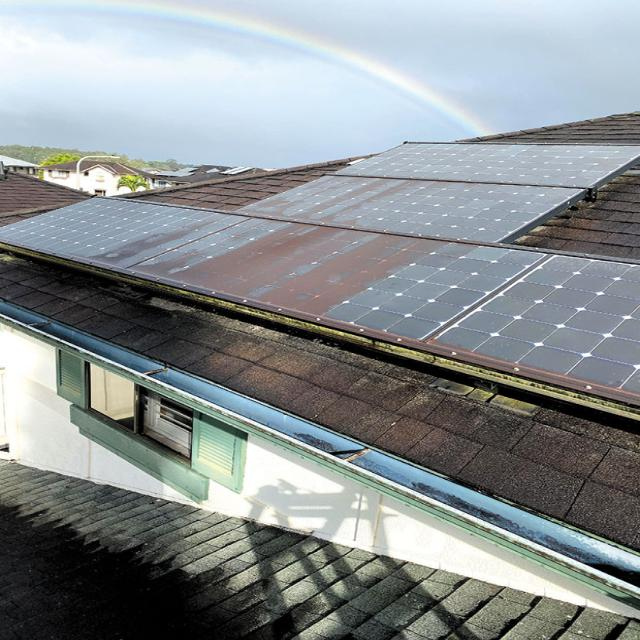dust-solar-panel: (138, 219, 451, 324)
